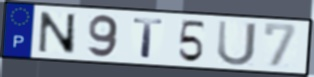5: (176, 18, 207, 63)
7: (262, 22, 301, 70)
9: (86, 13, 120, 59)
N: (38, 10, 78, 56)
T: (131, 17, 166, 60)
U: (216, 19, 258, 68)
